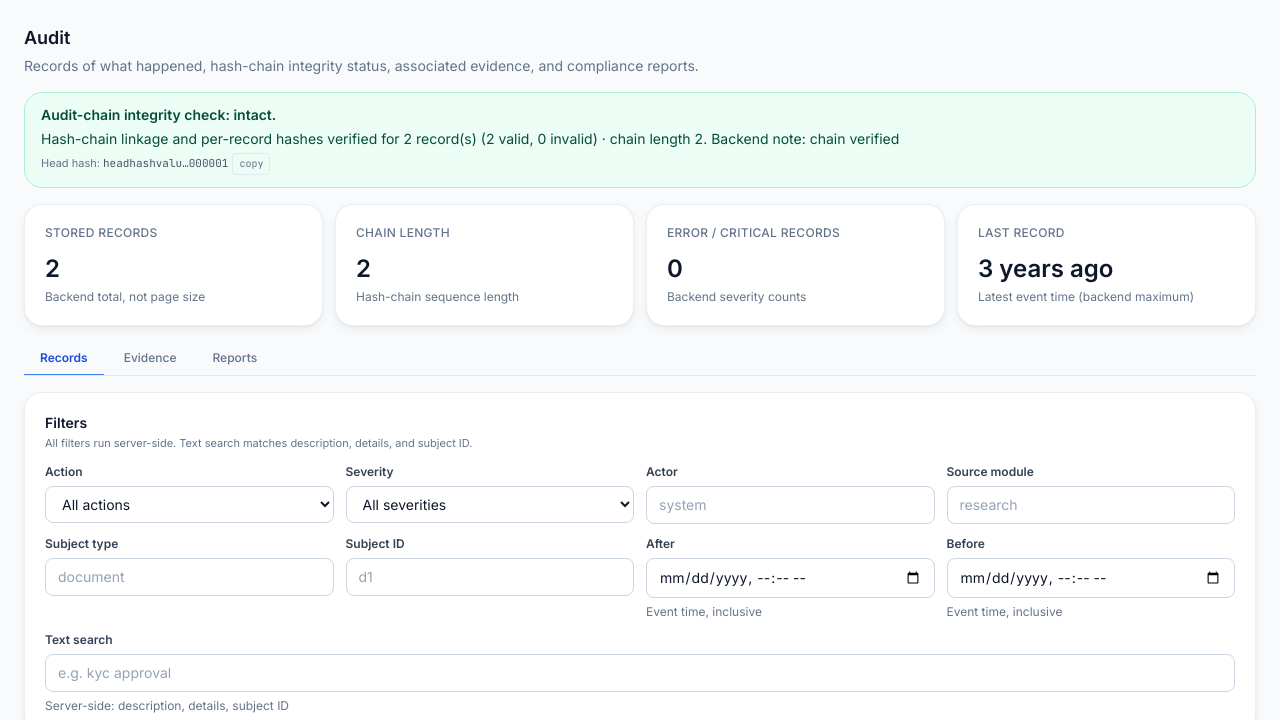
Scenario: evidence › record_id filter narrows server-side; empty is explicit
Click the tab "Evidence" at (150, 359), box [108, 342, 192, 376]
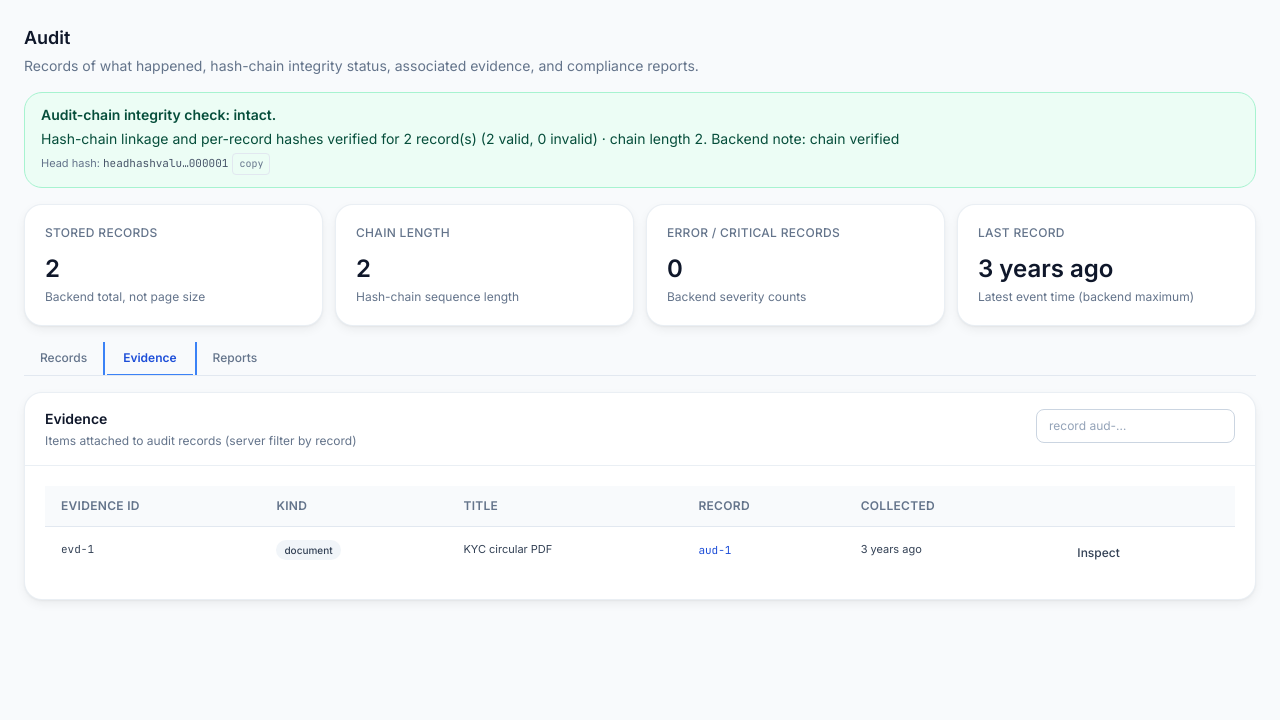
Now the text "KYC circular PDF" is shown, box [447, 527, 682, 579]
Type "aud-9" into the field named "filter evidence by record id" at (1136, 426), box [1036, 409, 1235, 443]
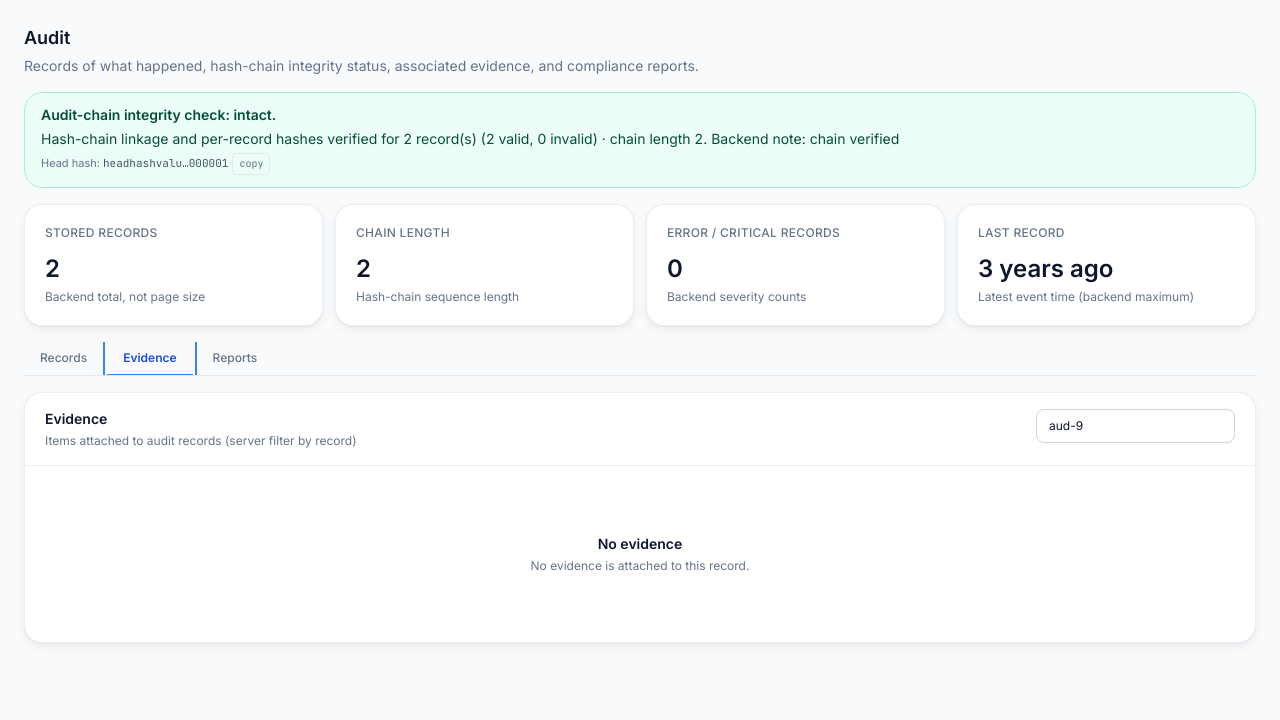
Now the heading "No evidence" is shown, box [598, 534, 682, 554]
